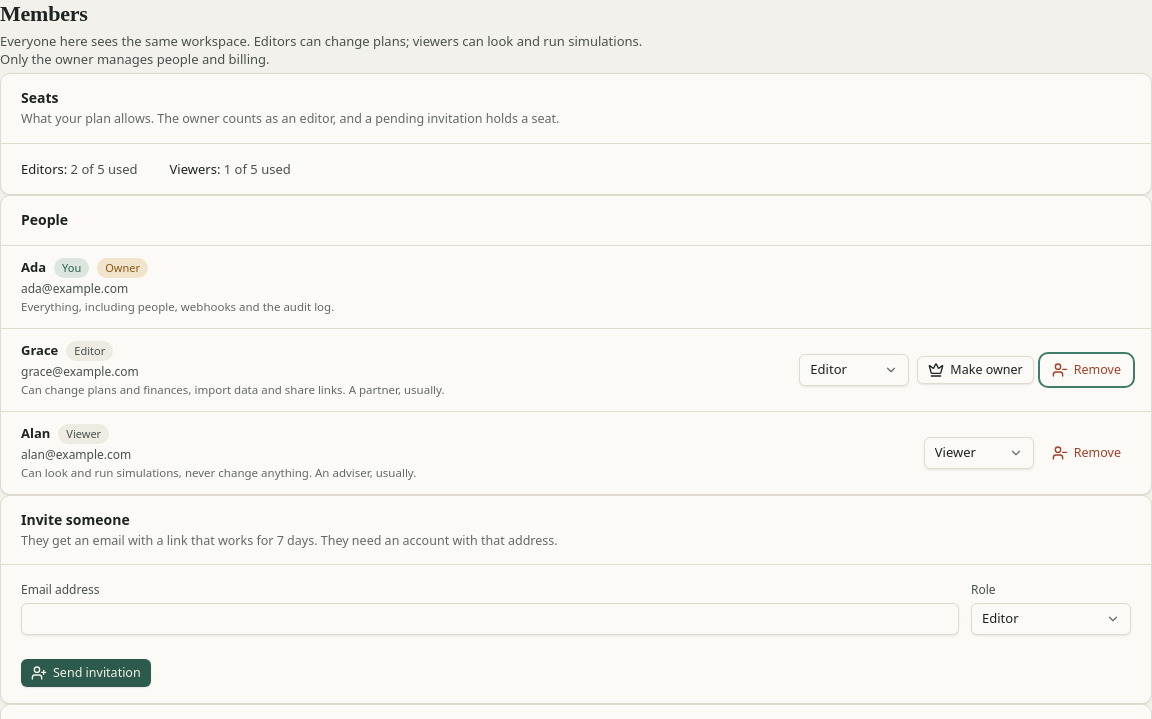
it: focus returns to the page when a dialog closes (QA item 3) › remove member: focus stays in the member list after the row goes
This screenshot has width=1152, height=719.
Click the button with aria-label "Remove Grace": (1086, 370) [1042,356,1131,384]
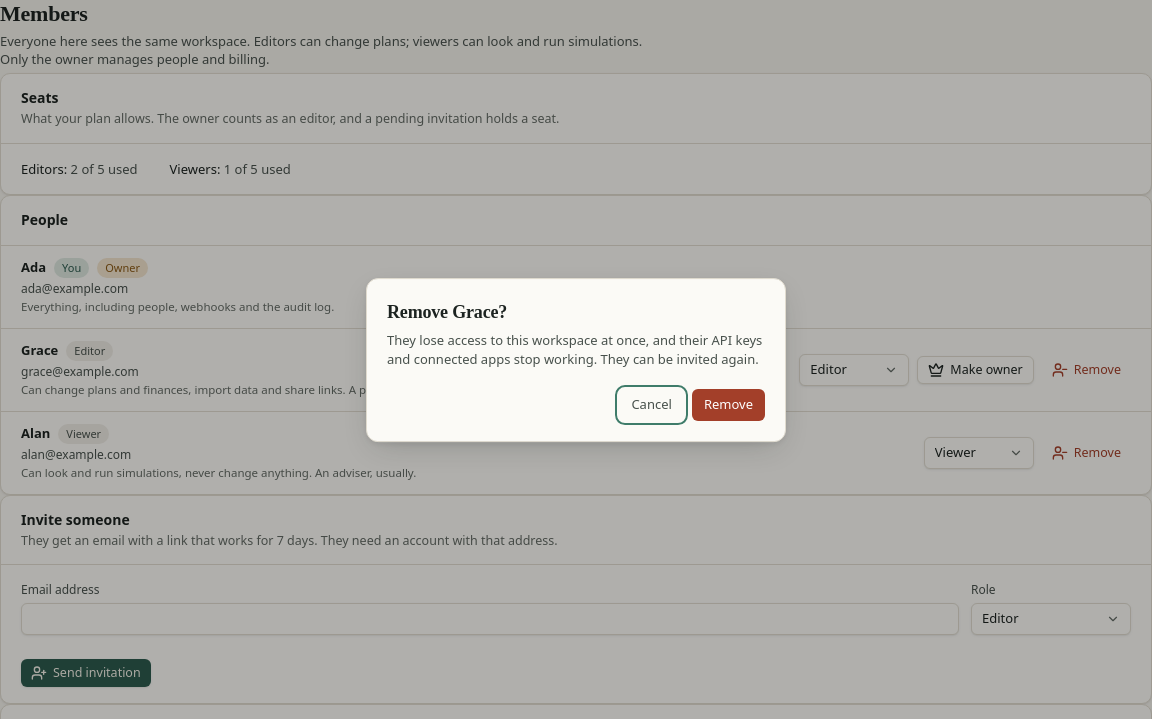
Click the button "Remove": (728, 405) [692,389,765,421]
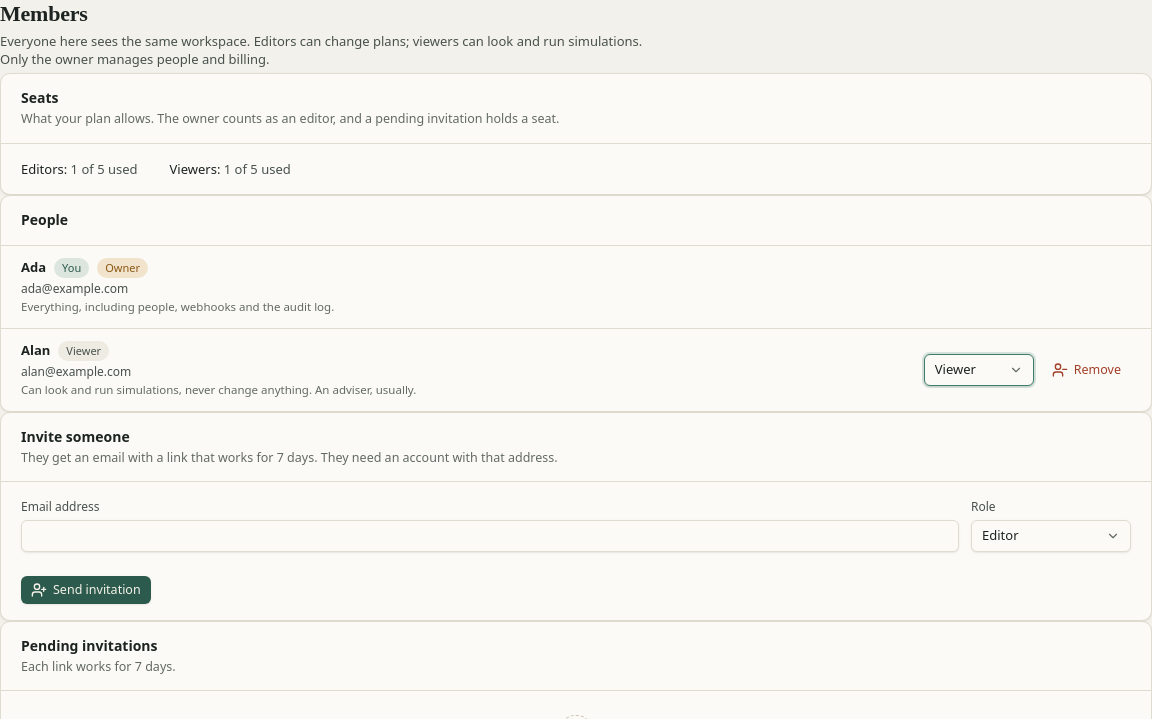
Expected: the text "Grace" is gone
